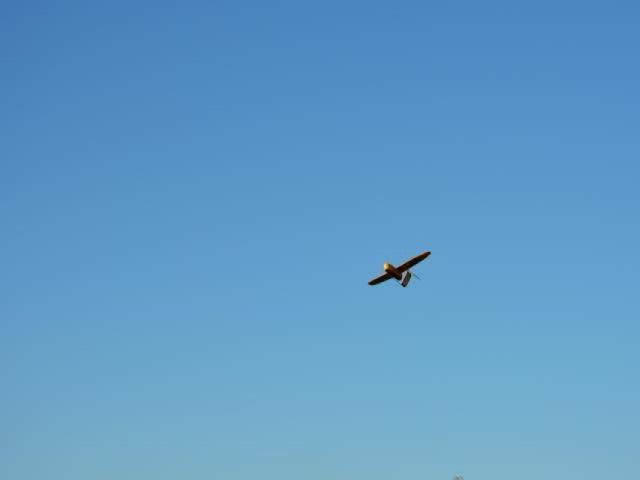iha: (364, 252, 431, 292)
